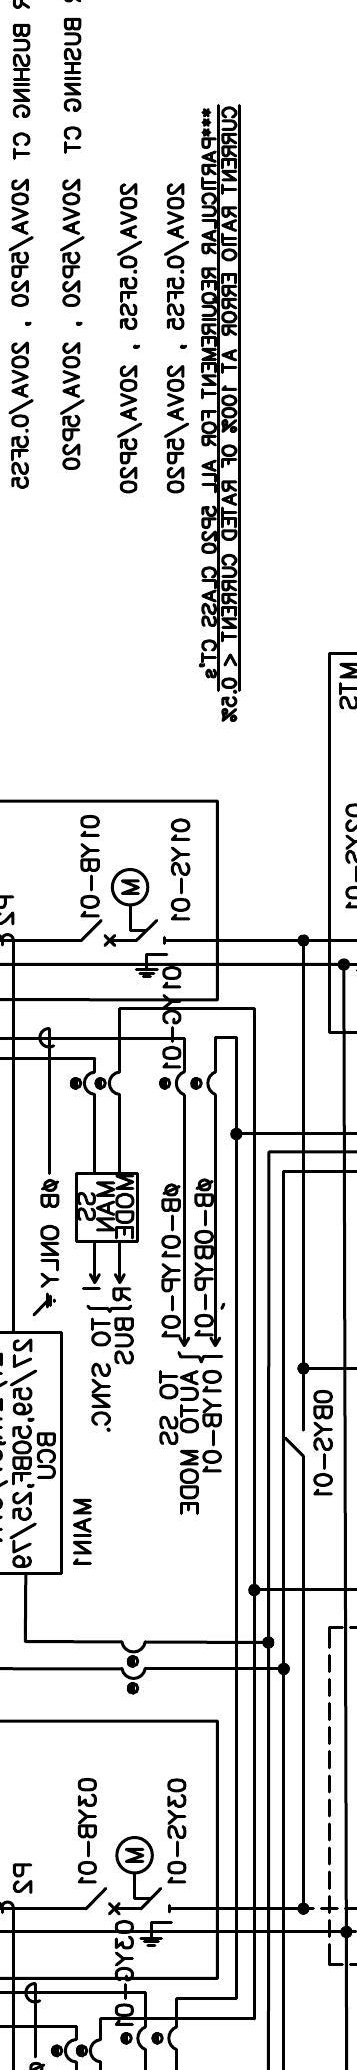115_3ways_ds_w_motor: (114, 1835, 173, 1948), (110, 867, 169, 979)
115_breaker: (80, 918, 117, 948), (85, 1886, 121, 1916)
115_ds: (285, 1427, 306, 1457)
ss_man_mode: (74, 1171, 140, 1244)
